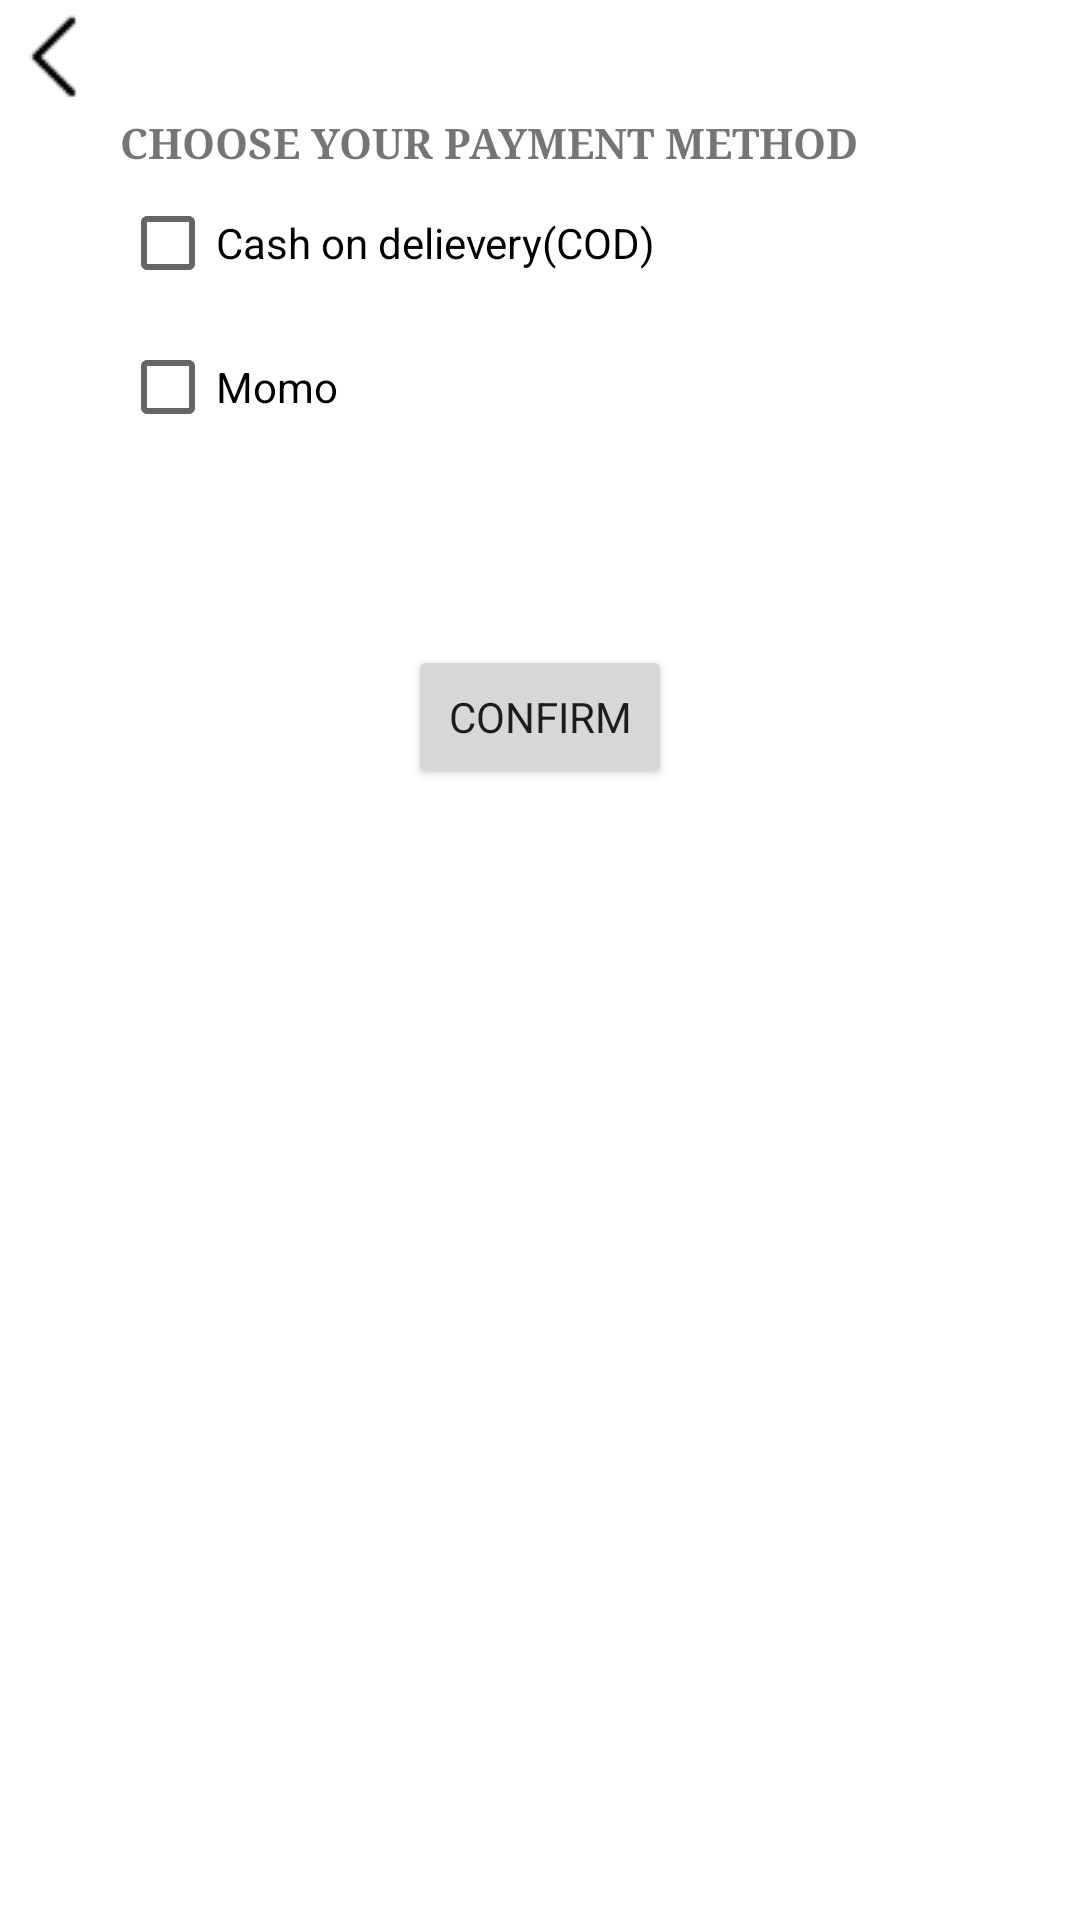

Screen size 1080x1920. Icon name, then its center in pixels as [x,y]:
back: [53,56]
